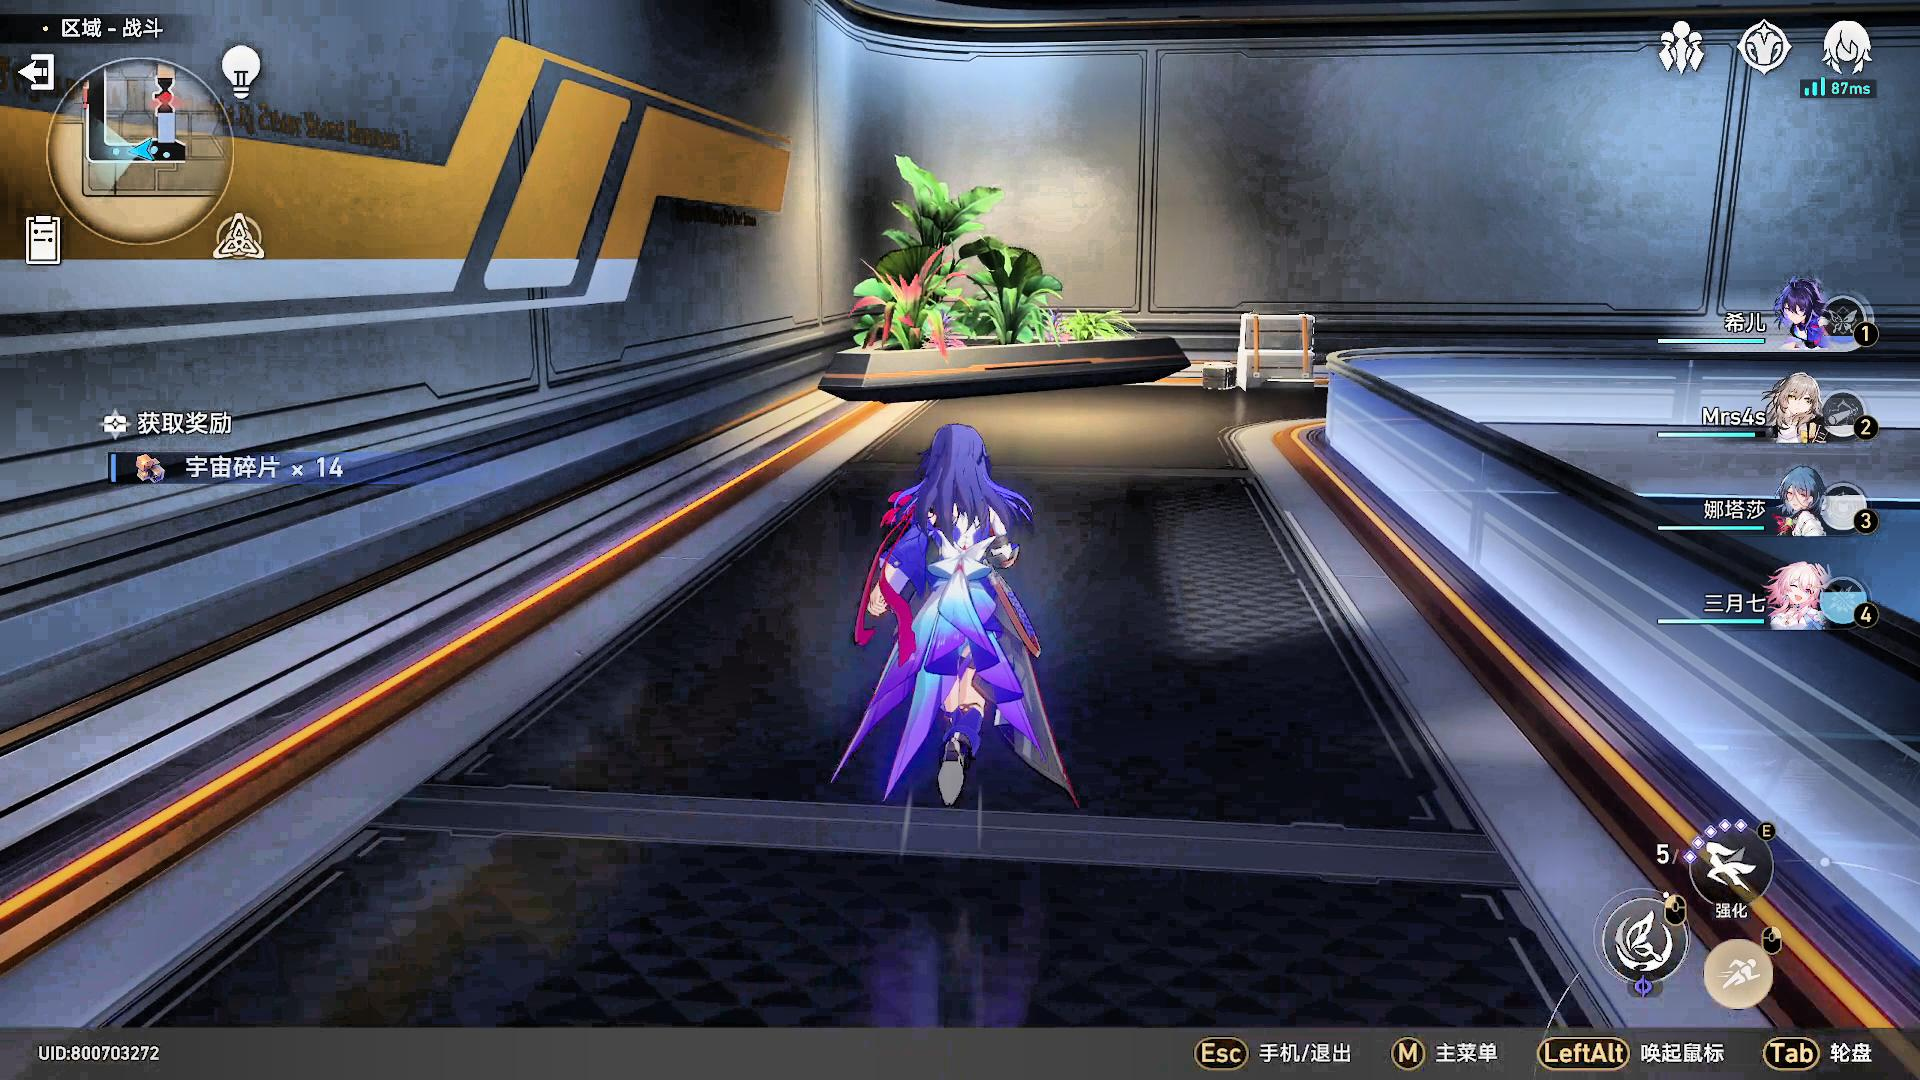Box: (1204, 311, 1317, 393)
Self: (851, 425, 1076, 818)
